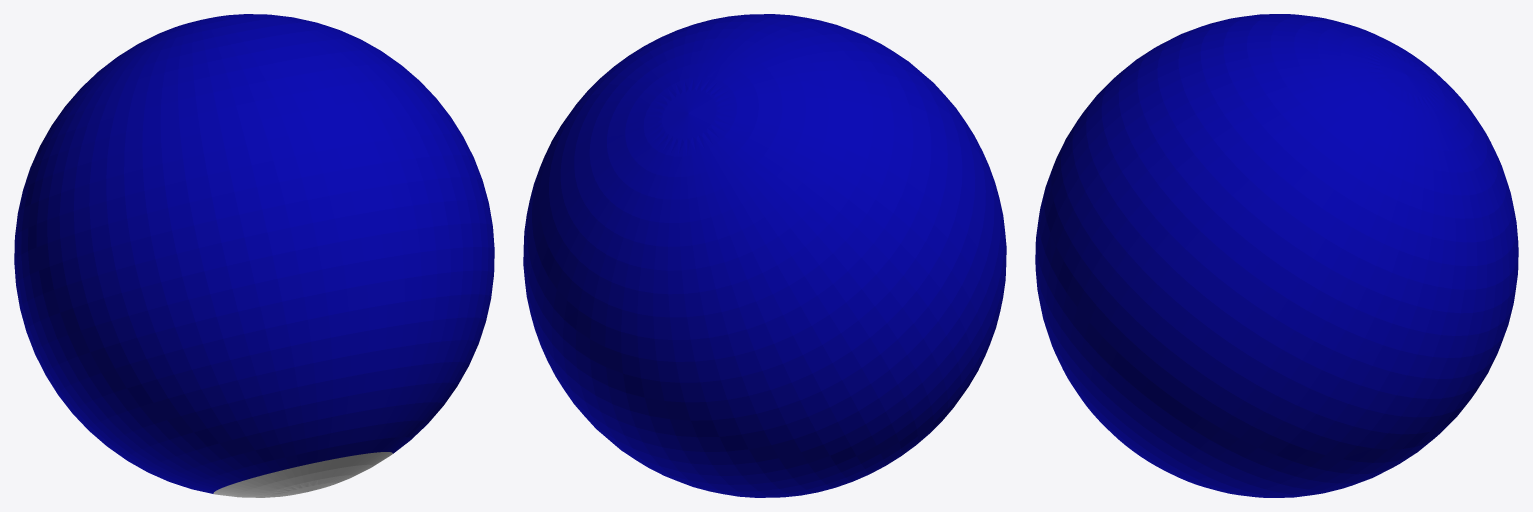
Rendered from 2_ball.obj.
3 views of the same model, side by side, from view 1: azimuth 30°, elevation 25°; view 2: azimuth 150°, elevation 25°; view 3: azimuth 270°, elevation 25° (orthographic).
Visible parts, largest first — view 1: Solid.013; view 2: Solid.013; view 3: Solid.013.
Part boxes in pixels (<box>): Solid.013: <box>14,14,494,497</box>; Solid.013: <box>523,14,1006,497</box>; Solid.013: <box>1035,14,1518,497</box>.
Bounding box in the file's own units: 0.0785 × 0.0789 × 0.0787.
